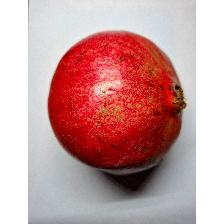Granatapfel: (48, 27, 188, 177)
